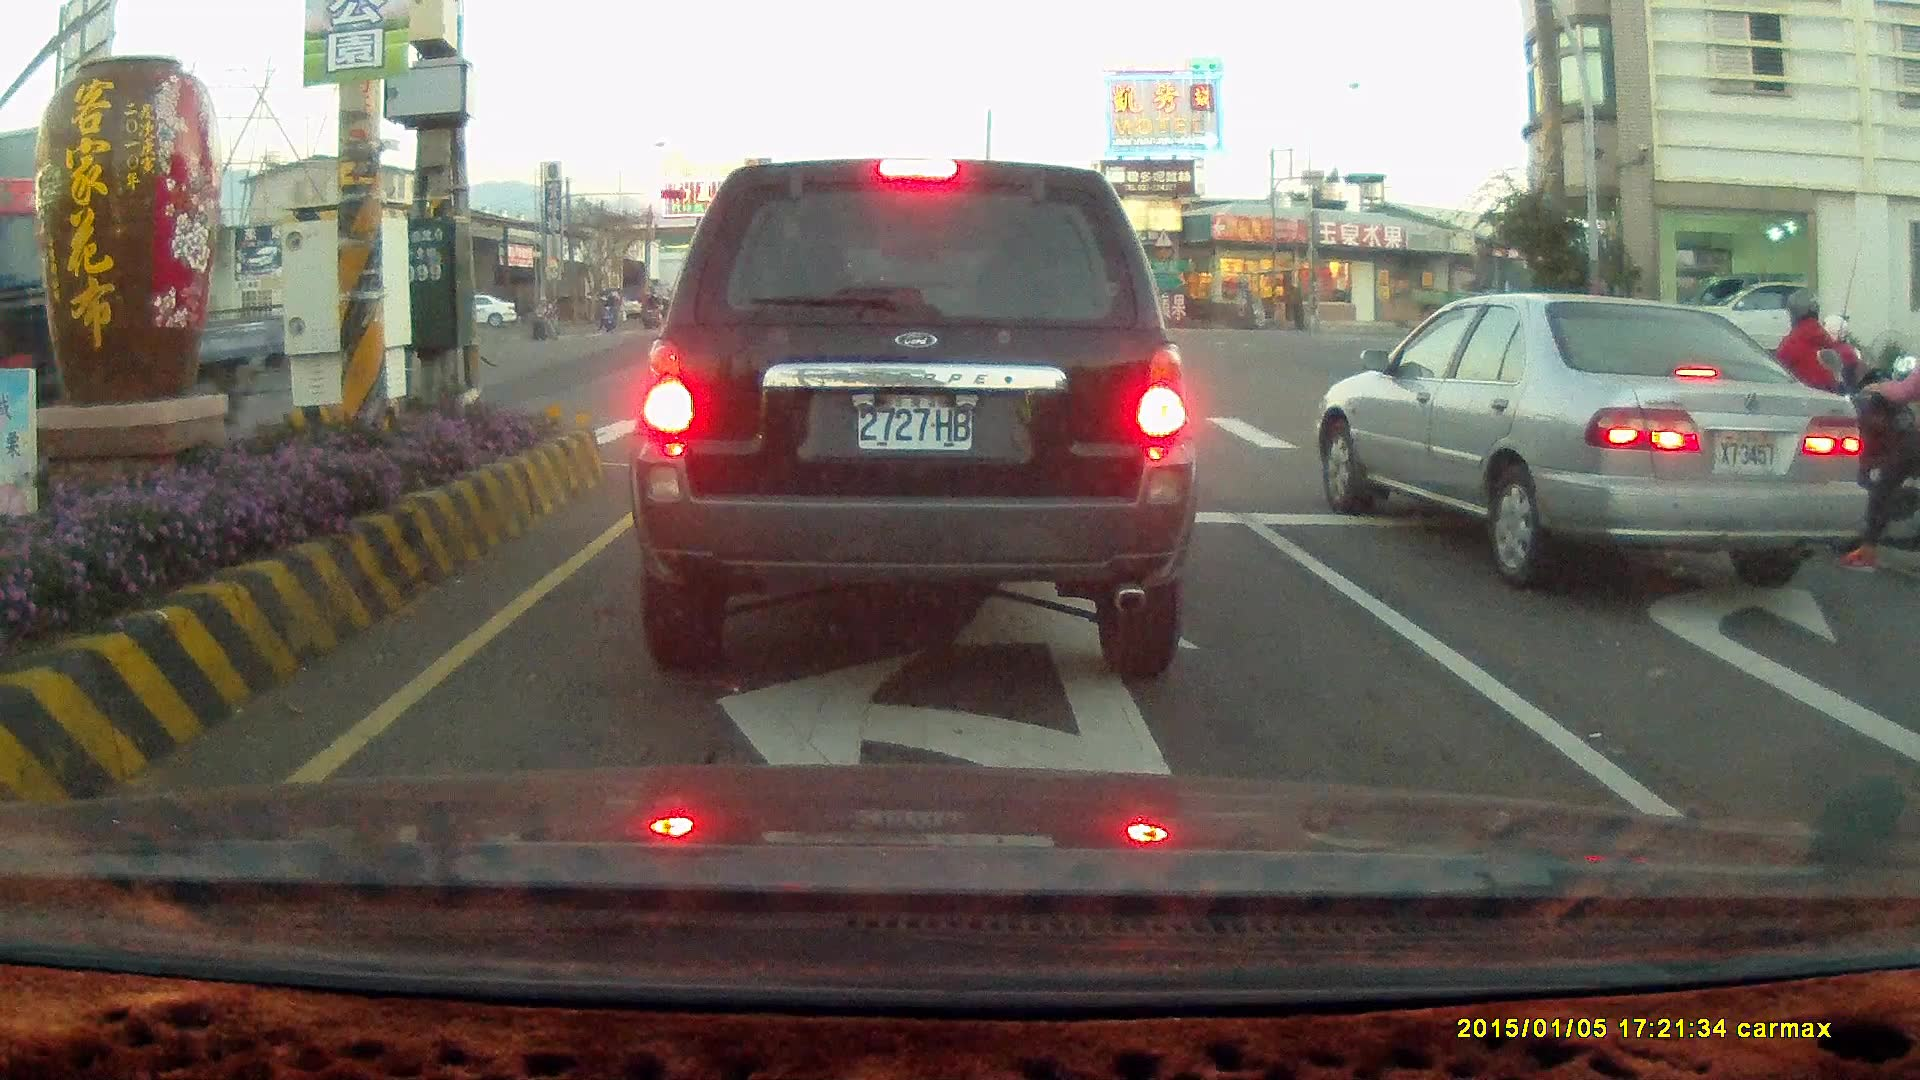rider: (1720, 287, 1860, 543), (1811, 345, 1920, 568), (529, 289, 562, 339), (598, 292, 619, 333), (645, 292, 666, 329)
vehicle: (626, 156, 1198, 683), (1313, 290, 1870, 594), (1329, 294, 1872, 577), (1656, 276, 1865, 372), (1668, 275, 1823, 373), (1896, 493, 1920, 836)
